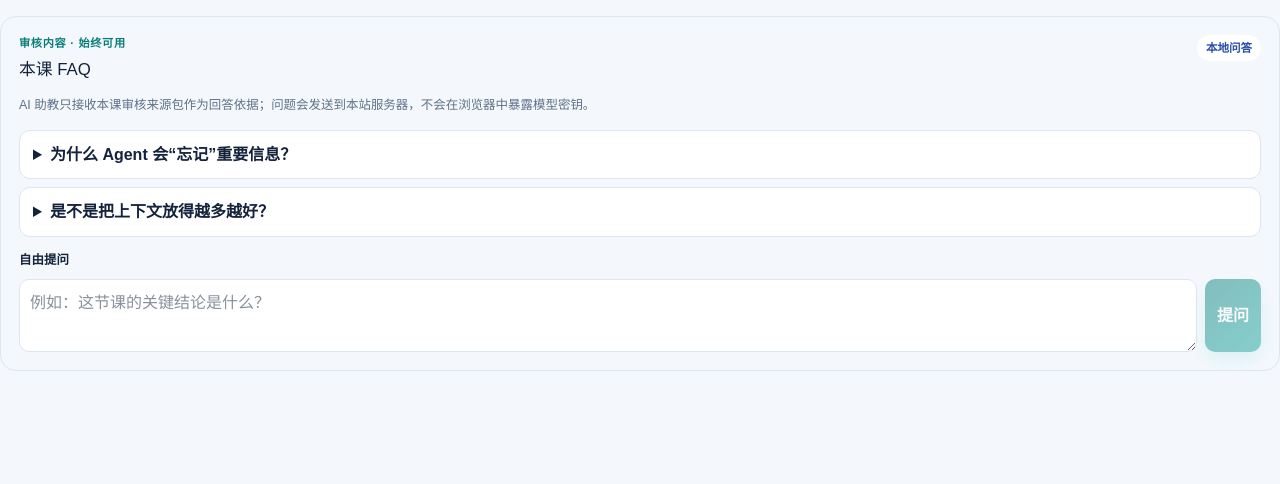
Test: FaqPanel › sends the course id and question to the server-side AI endpoint
expect the button "提问" is disabled: met, box [1205,279,1261,352]
Type "为什么 Agent 会“忘记”重要信息？" into the text box labelled "自由提问".
click(608, 316); type("为什么 Agent 会“忘记”重要信息？")  # box [19,279,1197,352]
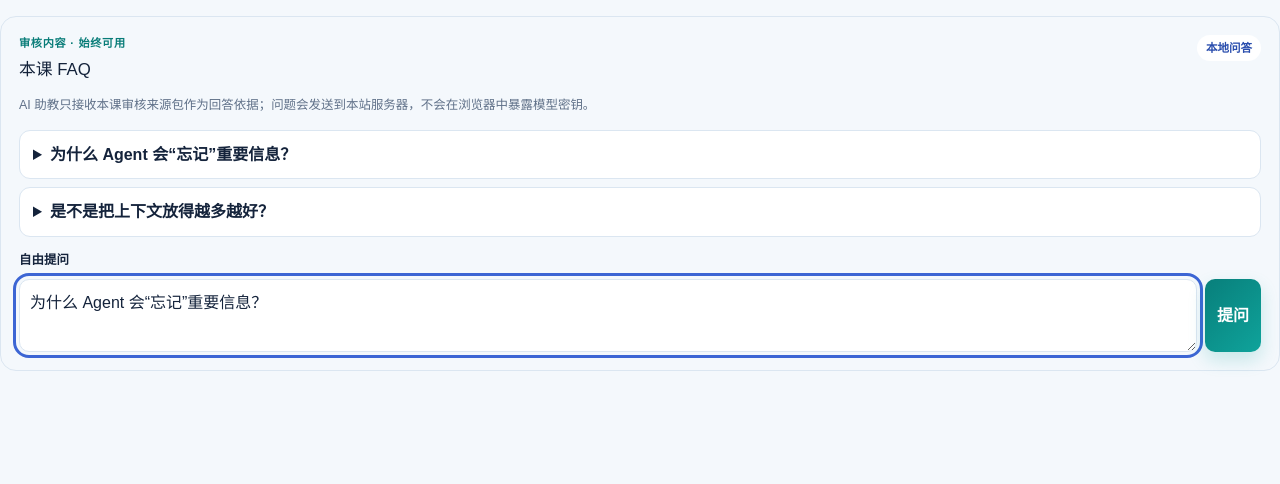
Click the button "提问".
click(1233, 316)  # box [1205,279,1261,352]
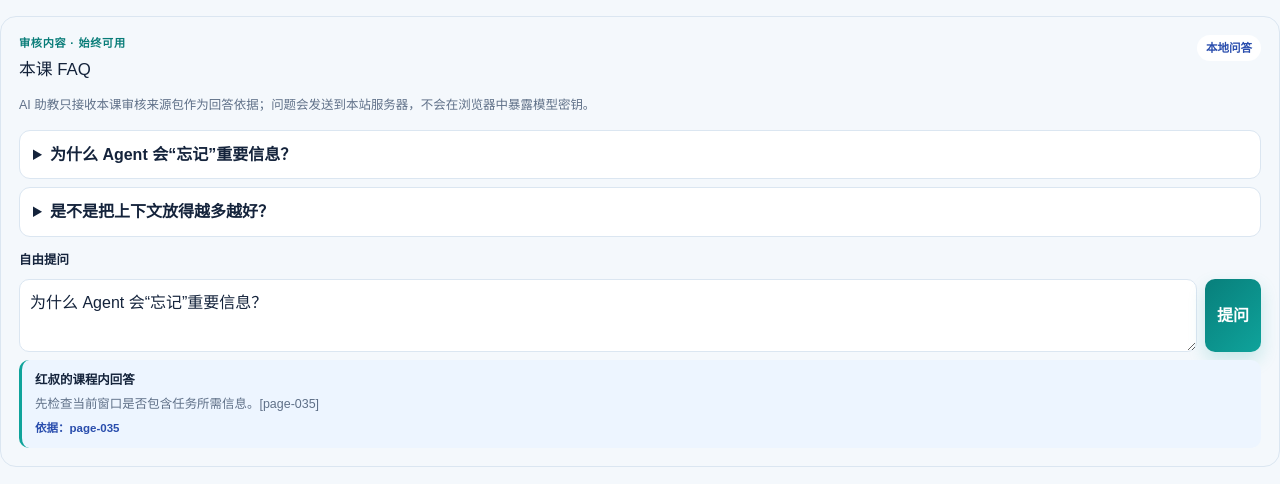
expect the text "先检查当前窗口是否包含任务所需信息。[page-035]" is shown: met, box [35,397,319,411]
expect the text "依据：page-035" is shown: met, box [35,422,120,434]
